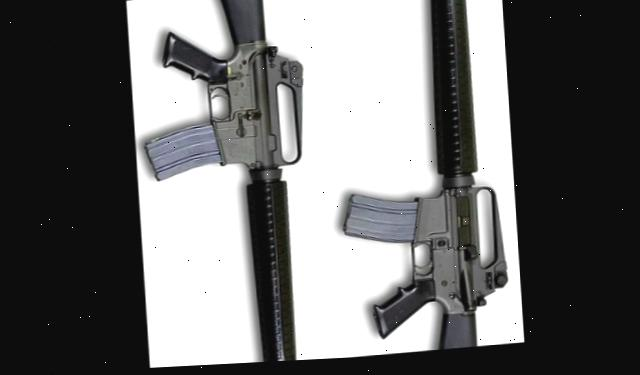rifle: (317, 0, 515, 362), (135, 0, 327, 369)
